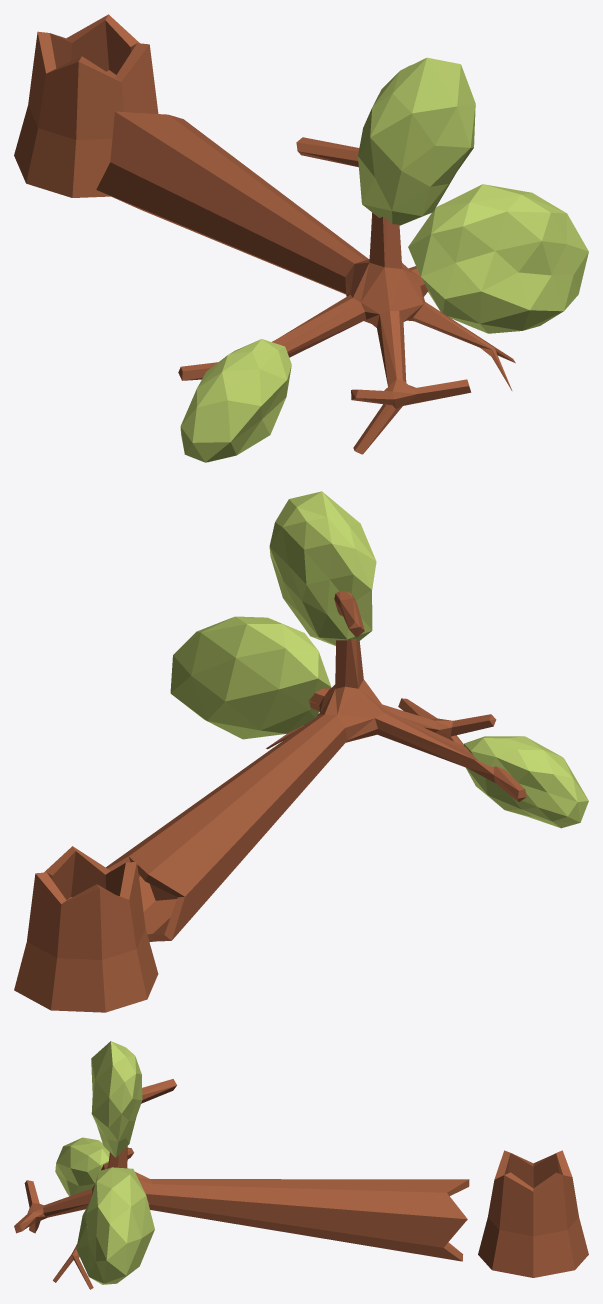
File: MammutTree_1 Broken.fbx
The picture shows the model from 3 angles, top to bottom: view 1: azimuth 30°, elevation 25°; view 2: azimuth 150°, elevation 25°; view 3: azimuth 270°, elevation 25°; orthographic projection. The views are drawn at different scales.
Parts seen in each view (by area): view 1: MammutTreeBroken_mesh; view 2: MammutTreeBroken_mesh; view 3: MammutTreeBroken_mesh.
Part boxes in pixels (x1,y1,x2,y2): MammutTreeBroken_mesh: (14,14,588,462); MammutTreeBroken_mesh: (14,491,588,1012); MammutTreeBroken_mesh: (14,1041,588,1289).
Bounding box in the file's own units: 1479 × 1099 × 2443.
